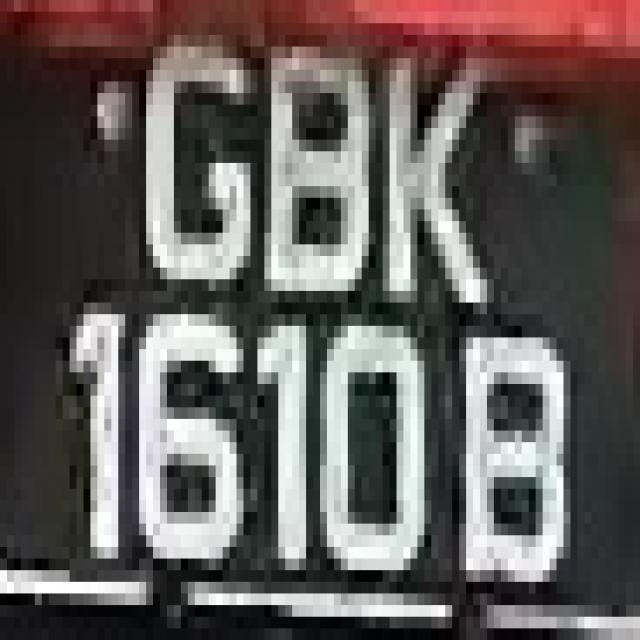0: (313, 291, 424, 605)
1: (257, 279, 313, 605), (70, 267, 125, 594)
6: (132, 314, 251, 582)
B: (452, 314, 591, 605), (250, 23, 376, 314)
G: (126, 47, 272, 314)
K: (376, 23, 494, 303)
